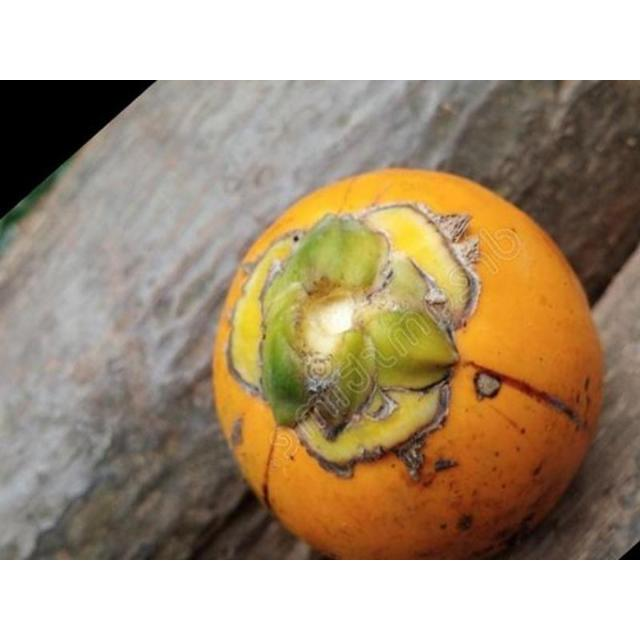good: (211, 171, 602, 559)
